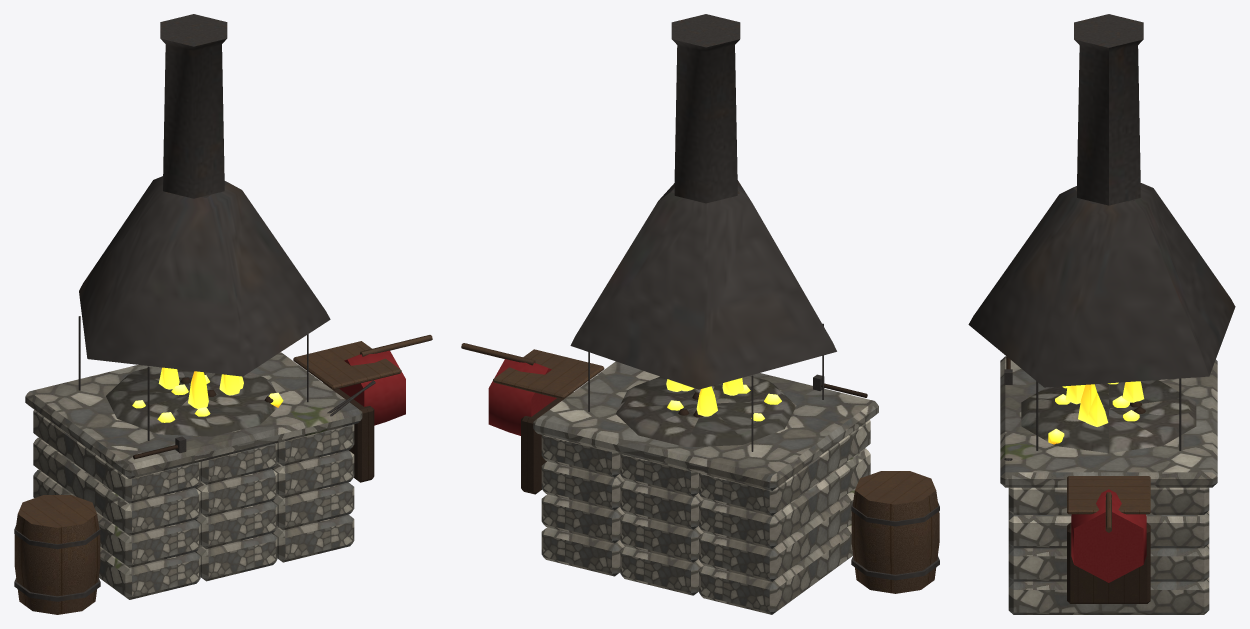
The model's file is forge_lod1.glb.
3 renders of one model, left to right at view 1: azimuth 30°, elevation 25°; view 2: azimuth 150°, elevation 25°; view 3: azimuth 270°, elevation 25°, orthographic. The views are drawn at different scales.
Visible parts, largest first — view 1: forge; view 2: forge; view 3: forge.
Boxes of the visible parts, <box> form: forge: <box>14,14,432,614</box>; forge: <box>461,14,939,614</box>; forge: <box>968,14,1235,614</box>.
Bounding box in the file's own units: 3.11 × 3.5 × 1.6.
Materials: 1 (1 with a texture image).
